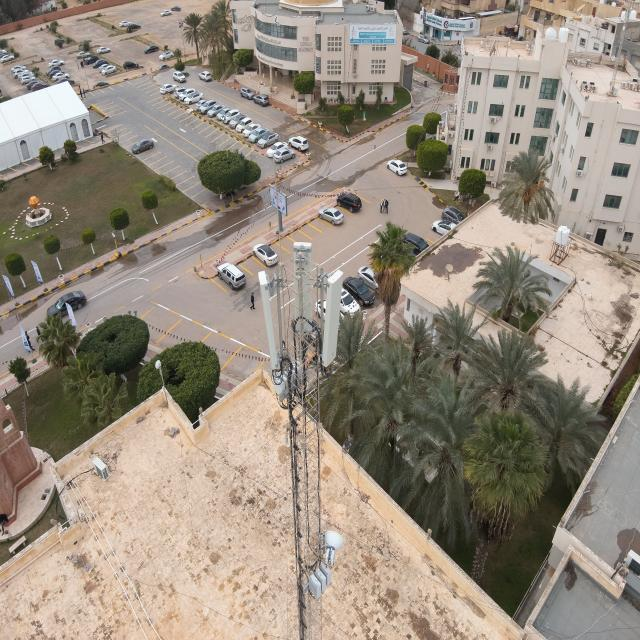antenna: (254, 268, 282, 384), (320, 265, 343, 375), (288, 235, 311, 342), (310, 560, 334, 608)
microware-dish: (318, 524, 344, 564)
radio-unit: (274, 371, 294, 413)
